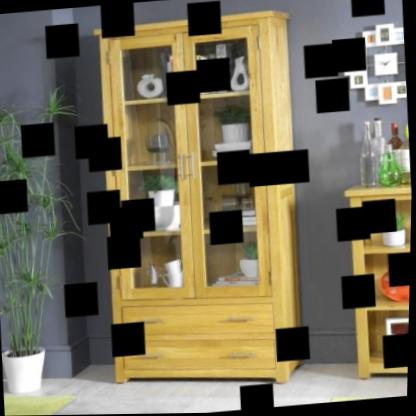Cupboard: (90, 11, 310, 393)
